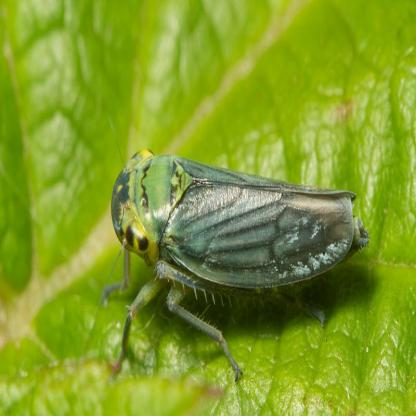Green-Leafhopper: (97, 132, 372, 384)
